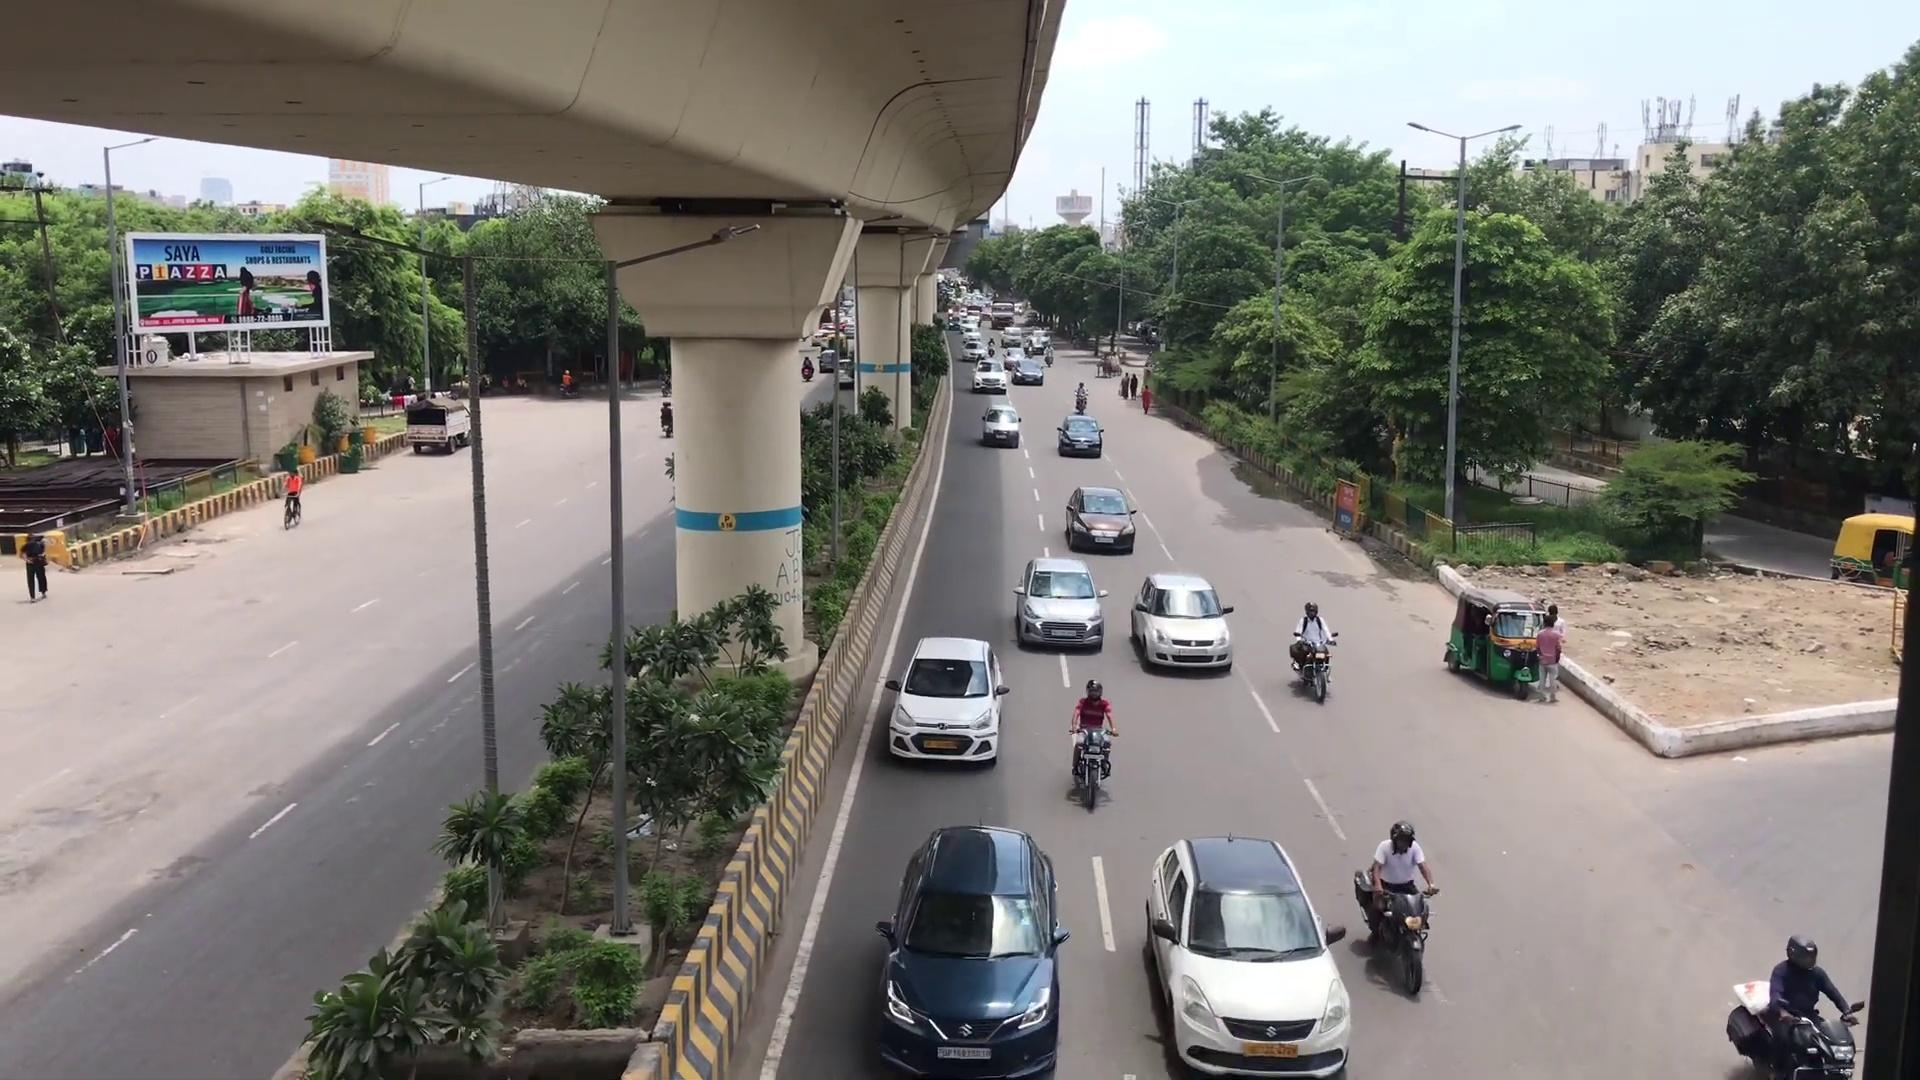Bike: (1724, 928, 1861, 1077), (1354, 812, 1436, 1000), (1067, 674, 1114, 811), (1290, 587, 1337, 699)
Car: (1146, 833, 1348, 1079), (872, 823, 1062, 1077)
